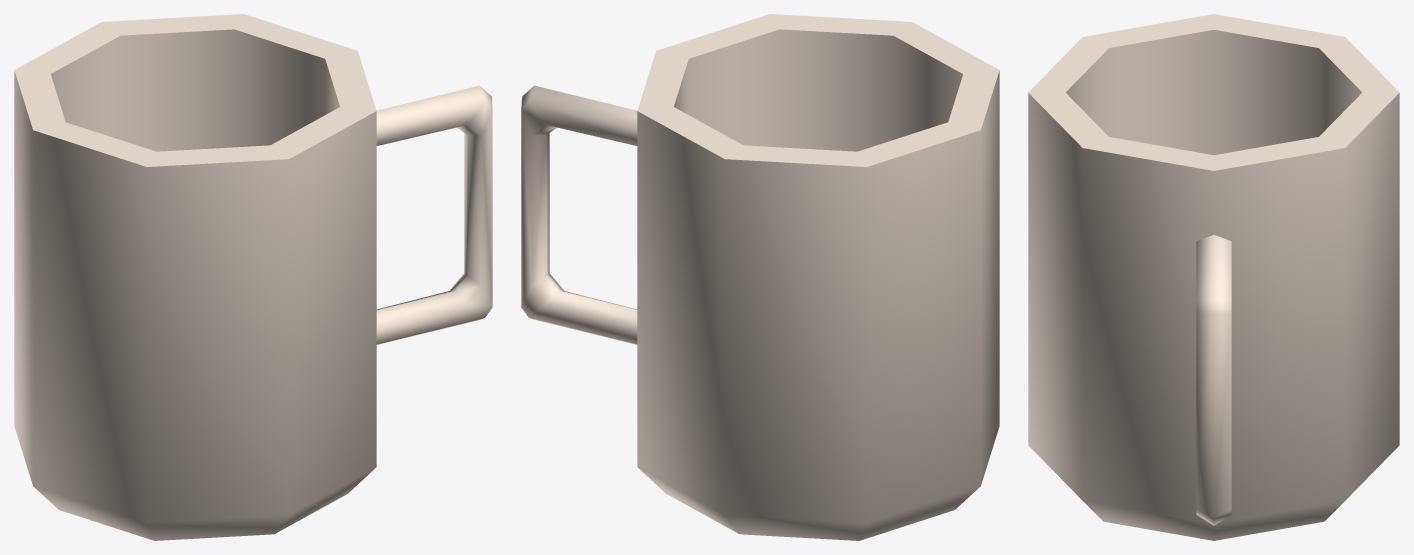
The model's file is cup2.FBX.
3 renders of one model, left to right at view 1: azimuth 30°, elevation 25°; view 2: azimuth 150°, elevation 25°; view 3: azimuth 270°, elevation 25°, orthographic.
Visible parts, largest first — view 1: cup2; view 2: cup2; view 3: cup2.
Part boxes in pixels (x1,y1,x2,y2): cup2: (14, 14, 492, 540); cup2: (521, 14, 999, 540); cup2: (1028, 14, 1399, 540).
Size of the model in its own units: 21.71 by 17.45 by 15.37.
1 material, 1 textured.
